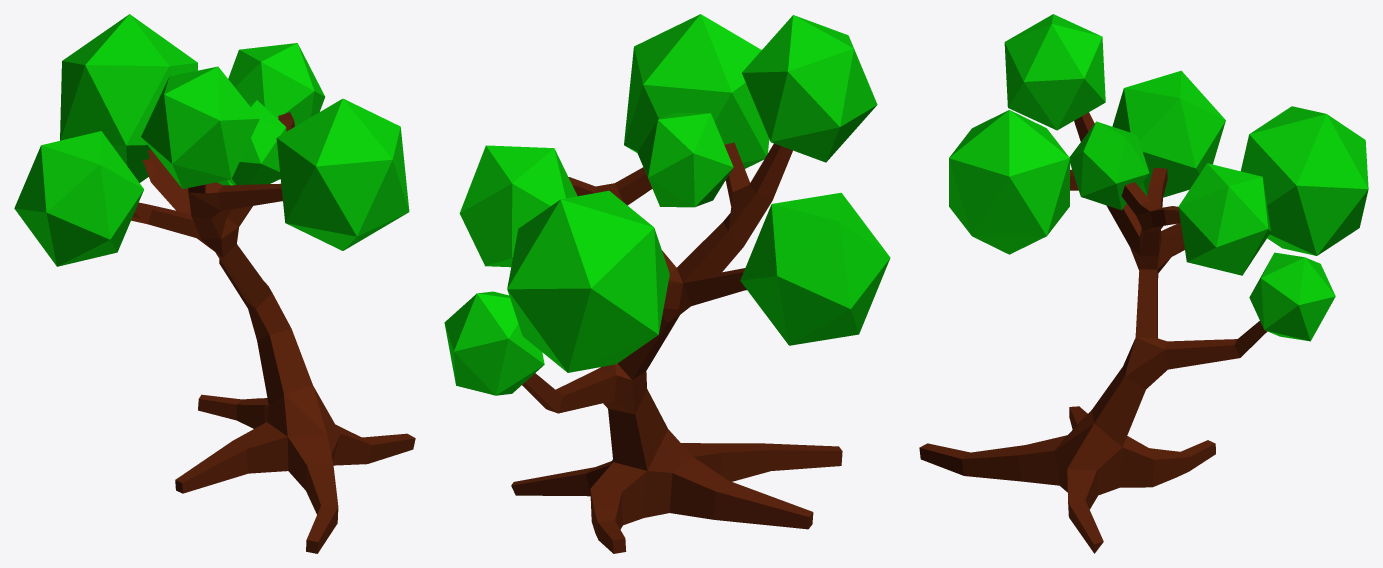
Rendered from boompie.fbx.
3 renders of one model, left to right at view 1: azimuth 30°, elevation 25°; view 2: azimuth 150°, elevation 25°; view 3: azimuth 270°, elevation 25°, orthographic. The views are drawn at different scales.
Parts seen in each view (by area): view 1: Cube; view 2: Cube; view 3: Cube.
Boxes of the visible parts, x1=… form: Cube: x1=14, y1=14, x2=415, y2=553; Cube: x1=444, y1=14, x2=890, y2=553; Cube: x1=919, y1=14, x2=1368, y2=553.
Size of the model in its own units: 2.16 by 2.69 by 2.55.
